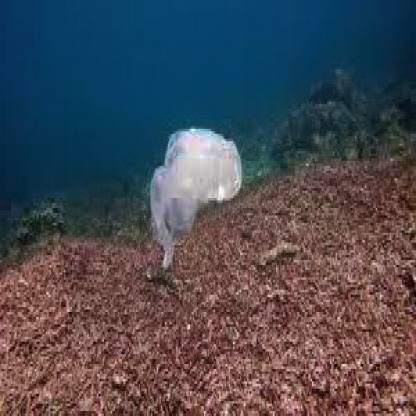pbag: (144, 119, 247, 280)
